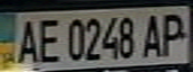0: (63, 15, 84, 62)
2: (81, 14, 103, 62)
4: (100, 12, 121, 61)
8: (115, 11, 142, 61)
A: (12, 15, 42, 65), (139, 10, 166, 58)
E: (33, 15, 63, 64)
P: (157, 9, 190, 57)
